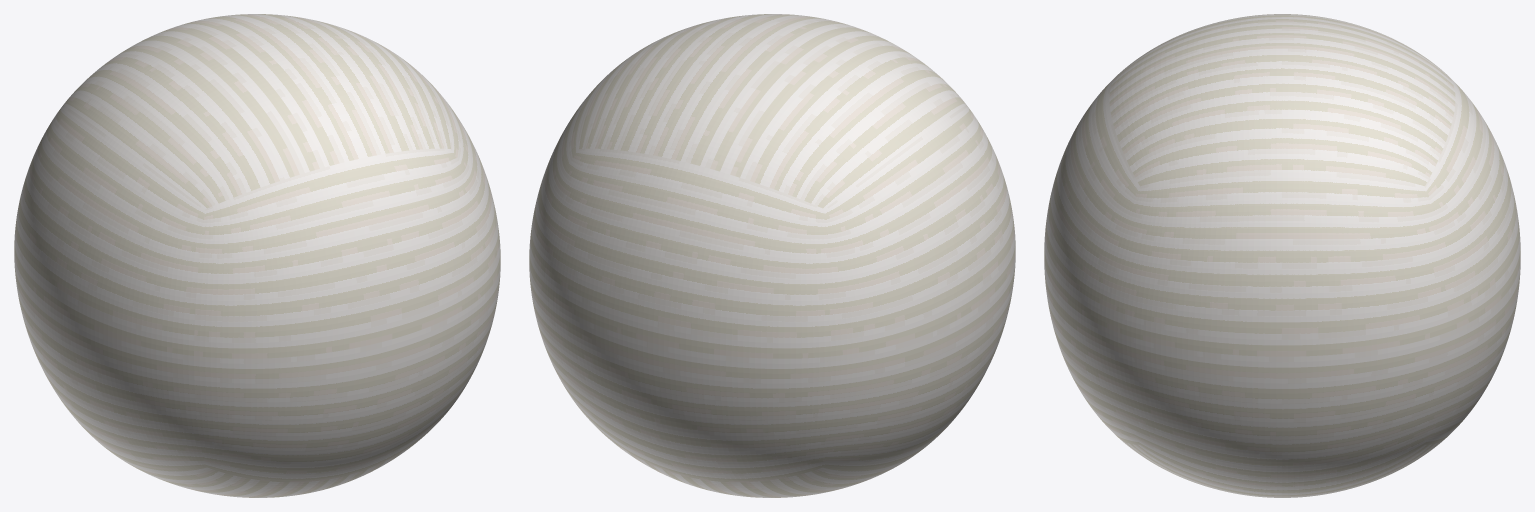
Rendered from pillar.fbx.
3 renders of one model, left to right at view 1: azimuth 30°, elevation 25°; view 2: azimuth 150°, elevation 25°; view 3: azimuth 270°, elevation 25°, orthographic.
Visible parts, largest first — view 1: Cube; view 2: Cube; view 3: Cube.
Part boxes in pixels (left/top/right/bottom): Cube: left=14, top=14, right=500, bottom=497; Cube: left=529, top=14, right=1015, bottom=497; Cube: left=1044, top=14, right=1520, bottom=497.
Size of the model in its own units: 168 by 168 by 168.
